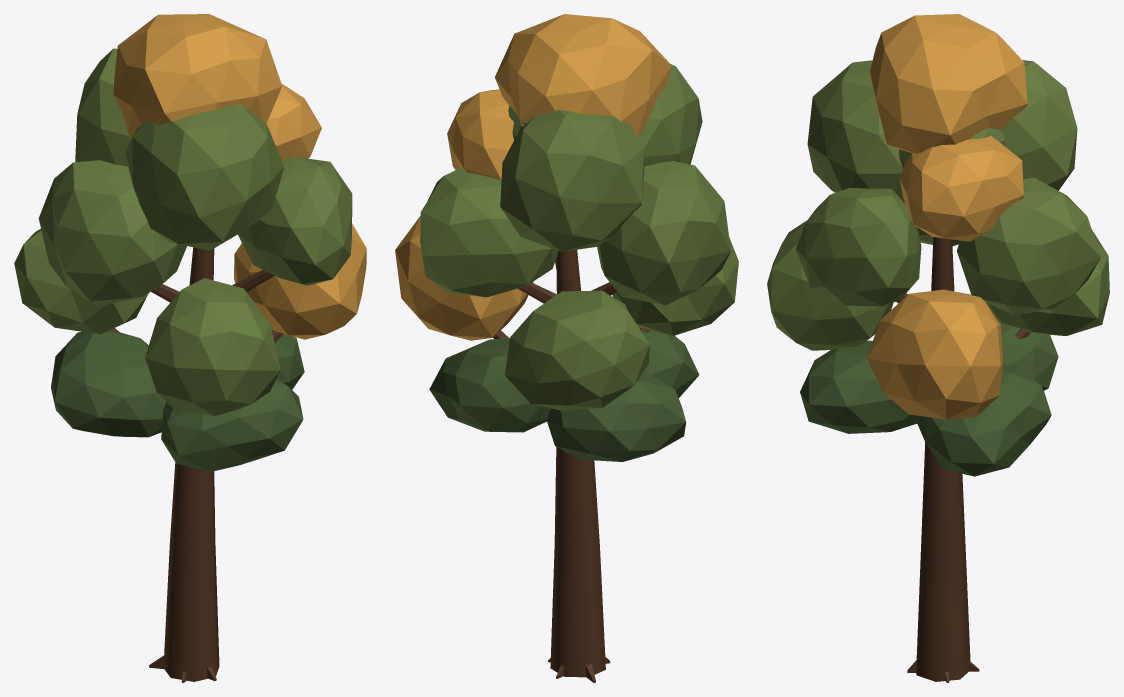
File: tree_maple_a.glb
3 renders of one model, left to right at view 1: azimuth 30°, elevation 25°; view 2: azimuth 150°, elevation 25°; view 3: azimuth 270°, elevation 25°, orthographic.
Parts seen in each view (by area): view 1: maple_canopy_01, maple_canopy_00, maple_canopy_under_0, maple_limb_0_0; view 2: maple_canopy_01, maple_canopy_00, maple_canopy_under_0, maple_limb_0_0; view 3: maple_canopy_01, maple_canopy_00, maple_canopy_under_0, maple_limb_0_0.
Boxes of the visible parts, x1=… form: maple_canopy_01: x1=14, y1=48, x2=352, y2=415; maple_canopy_00: x1=113, y1=14, x2=366, y2=339; maple_canopy_under_0: x1=51, y1=330, x2=304, y2=471; maple_limb_0_0: x1=109, y1=247, x2=283, y2=682; maple_canopy_01: x1=420, y1=64, x2=738, y2=410; maple_canopy_00: x1=395, y1=14, x2=671, y2=340; maple_canopy_under_0: x1=429, y1=326, x2=699, y2=461; maple_limb_0_0: x1=493, y1=249, x2=650, y2=682; maple_canopy_01: x1=767, y1=60, x2=1109, y2=350; maple_canopy_00: x1=867, y1=14, x2=1027, y2=419; maple_canopy_under_0: x1=800, y1=318, x2=1058, y2=476; maple_limb_0_0: x1=863, y1=237, x2=1031, y2=682.
Size of the model in its own units: 3.68 by 7.2 by 3.47.
